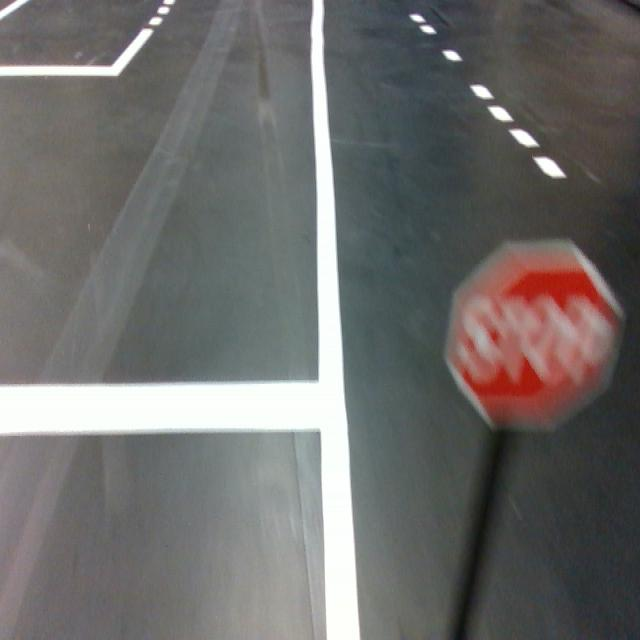stop-sign: (443, 239, 626, 435)
